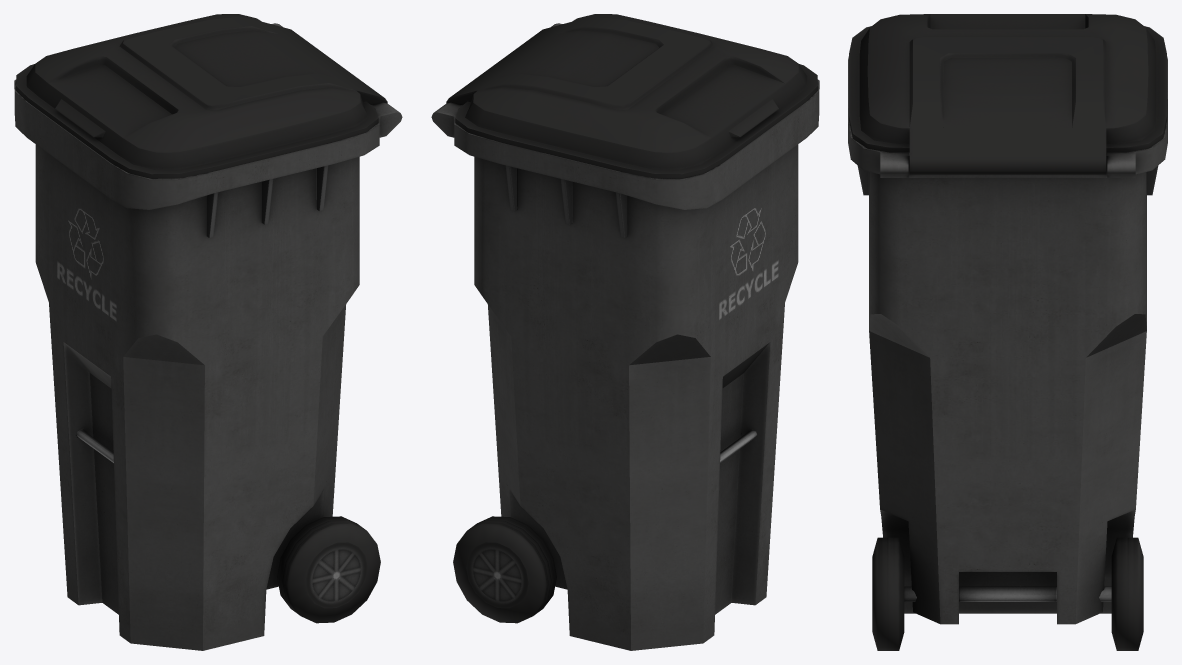
Rendered from waste-bin-120l-grey_LOD0.gltf.
3 renders of one model, left to right at view 1: azimuth 30°, elevation 25°; view 2: azimuth 150°, elevation 25°; view 3: azimuth 270°, elevation 25°, orthographic. The views are drawn at different scales.
Parts seen in each view (by area): view 1: TrashCan_Black; view 2: TrashCan_Black; view 3: TrashCan_Black.
Boxes of the visible parts, <box> form: TrashCan_Black: <box>14,14,402,650</box>; TrashCan_Black: <box>431,14,819,650</box>; TrashCan_Black: <box>848,14,1167,650</box>.
Size of the model in its own units: 0.4301 by 0.7997 by 0.4168.
1 material, 1 textured.
